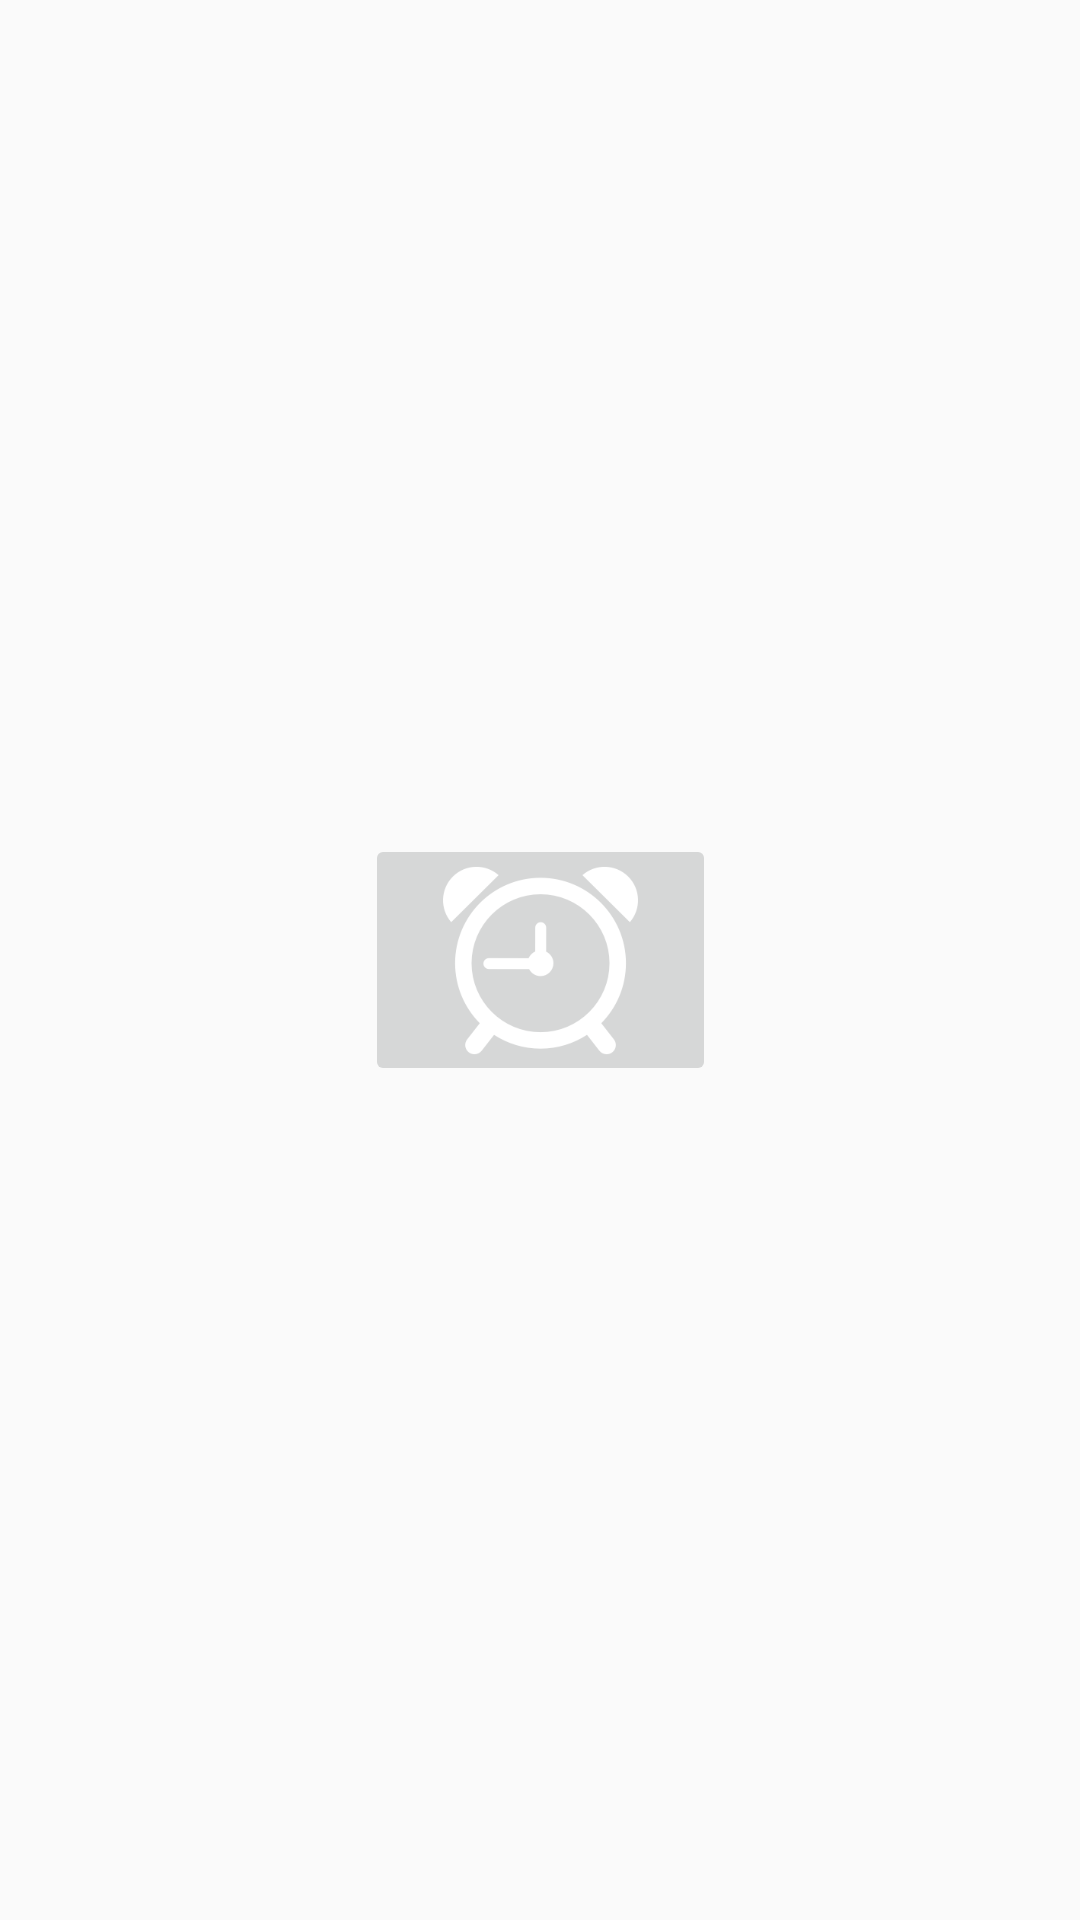

Icons on this 1080x1920 Android screen, each with the point to tap as (x,y):
alarm: (540,960)
